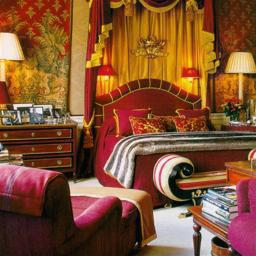Cama: (96, 84, 251, 155)
